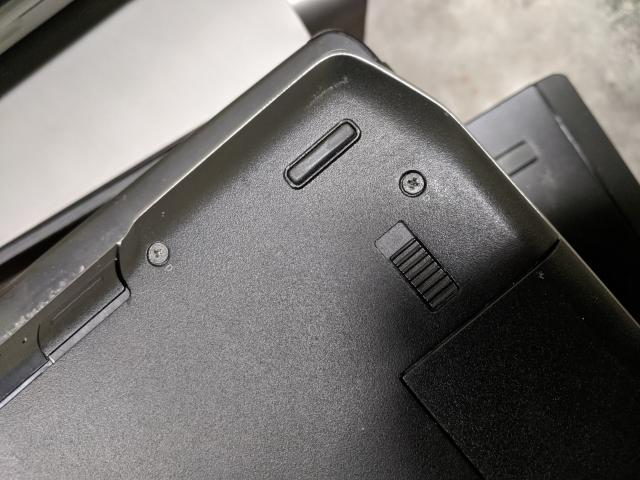CRS: (400, 168, 426, 196), (146, 242, 171, 265)
